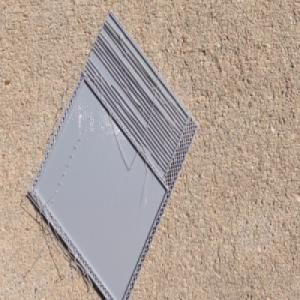PlasticPart: (24, 9, 200, 300)
